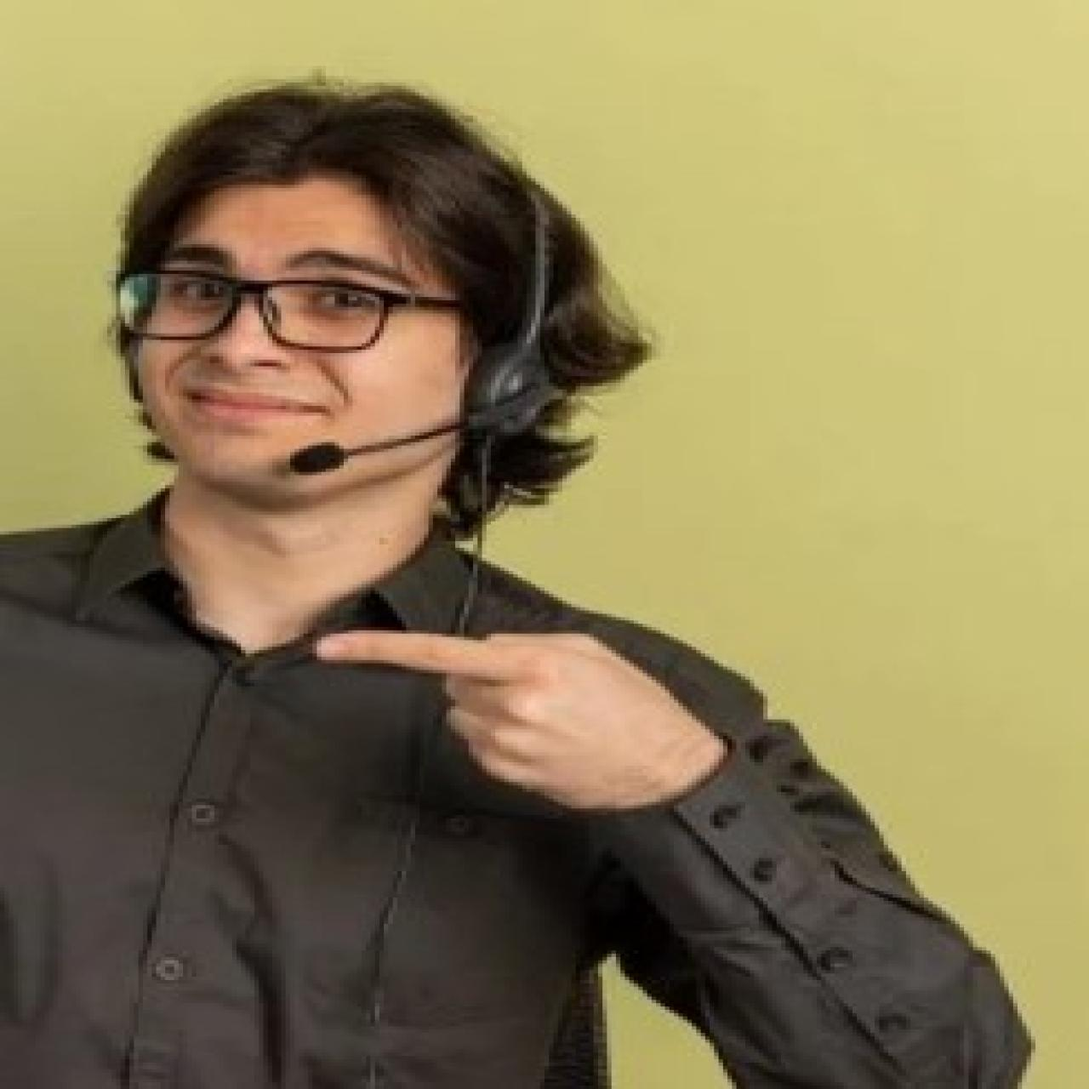NO_Safety_Vest: (13, 535, 607, 1089)
Person: (0, 45, 1068, 1089)
